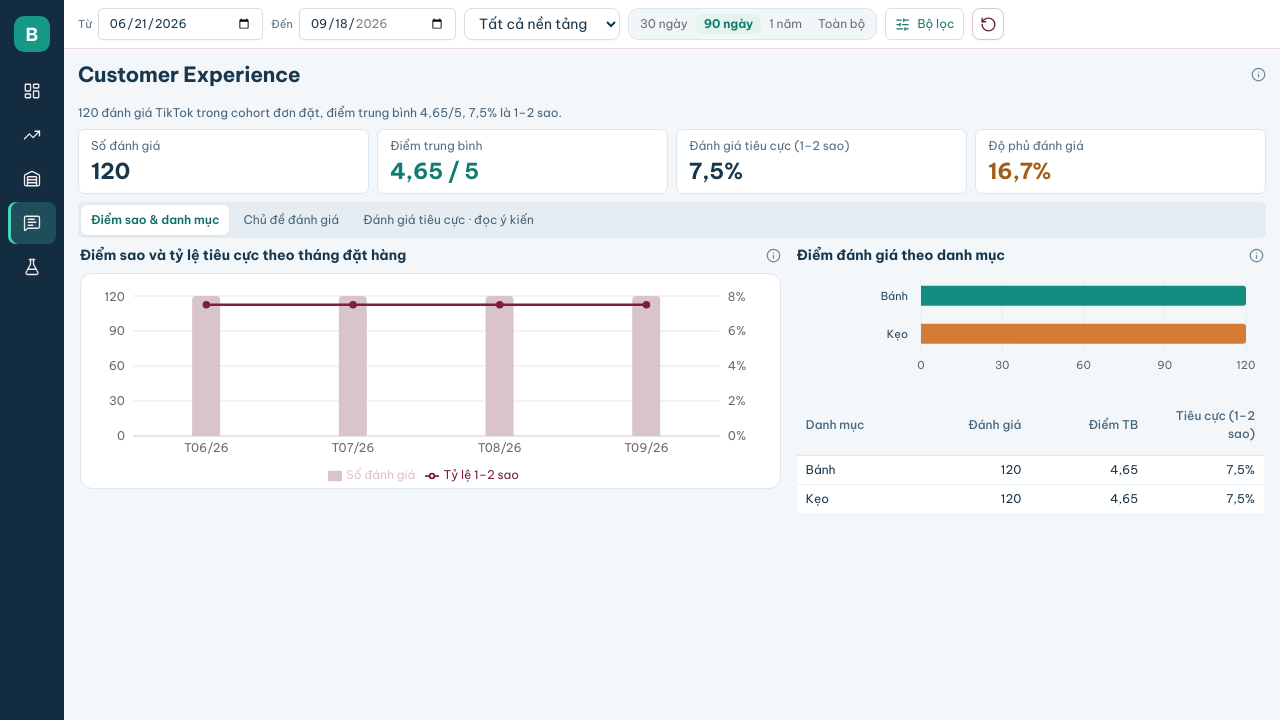
các trang dựng được với dữ liệu theo hợp đồng API › Customer Experience
The image size is (1280, 720).
Check: the heading "Customer Experience" is shown, box x1=78 y1=59 x2=300 y2=90
What coordinates should you click on to do the following:
click the tab "Chủ đề đánh giá"
I would click on:
 (291, 220)
Its box is x1=234 y1=205 x2=349 y2=235.
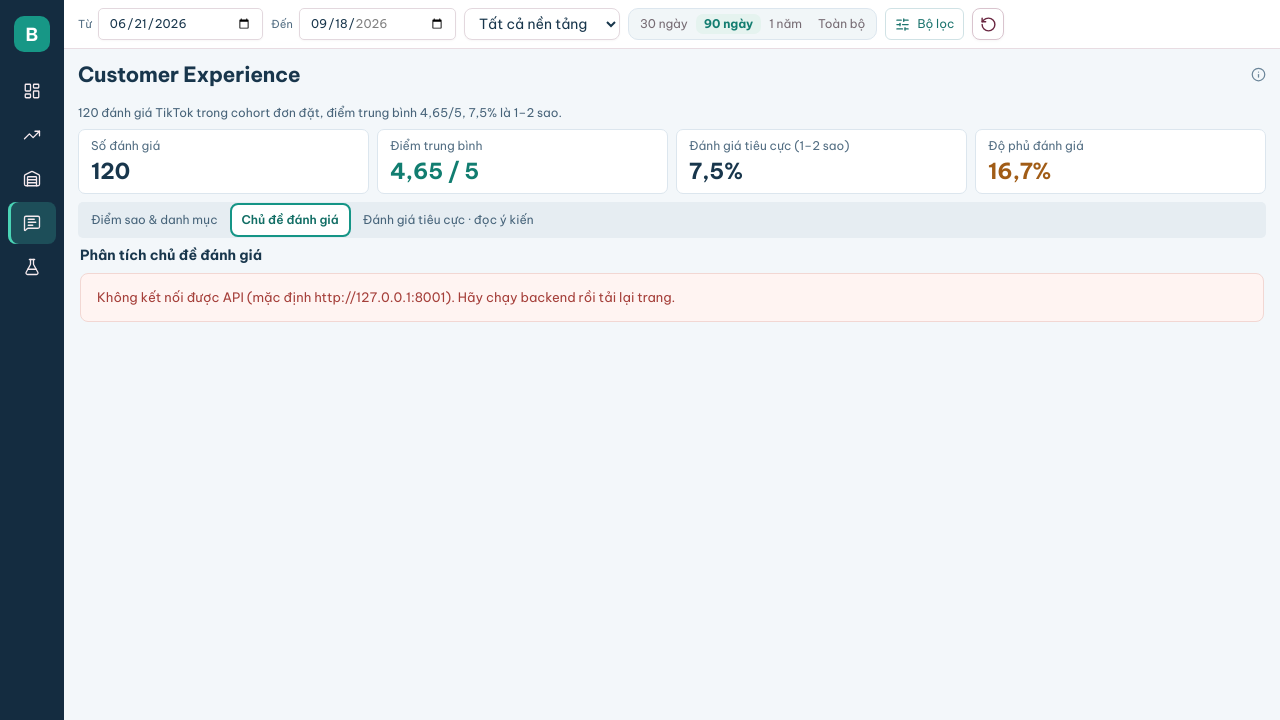
Check: the text "4,65" is shown, box x1=78 y1=104 x2=562 y2=120
Check: the heading "Phân tích chủ đề đánh giá" is shown, box x1=80 y1=246 x2=262 y2=265
